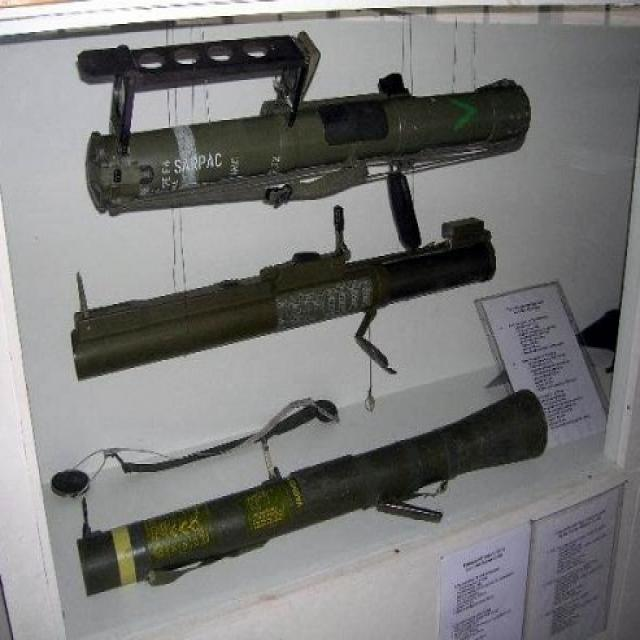bazooka: (21, 40, 563, 605)
